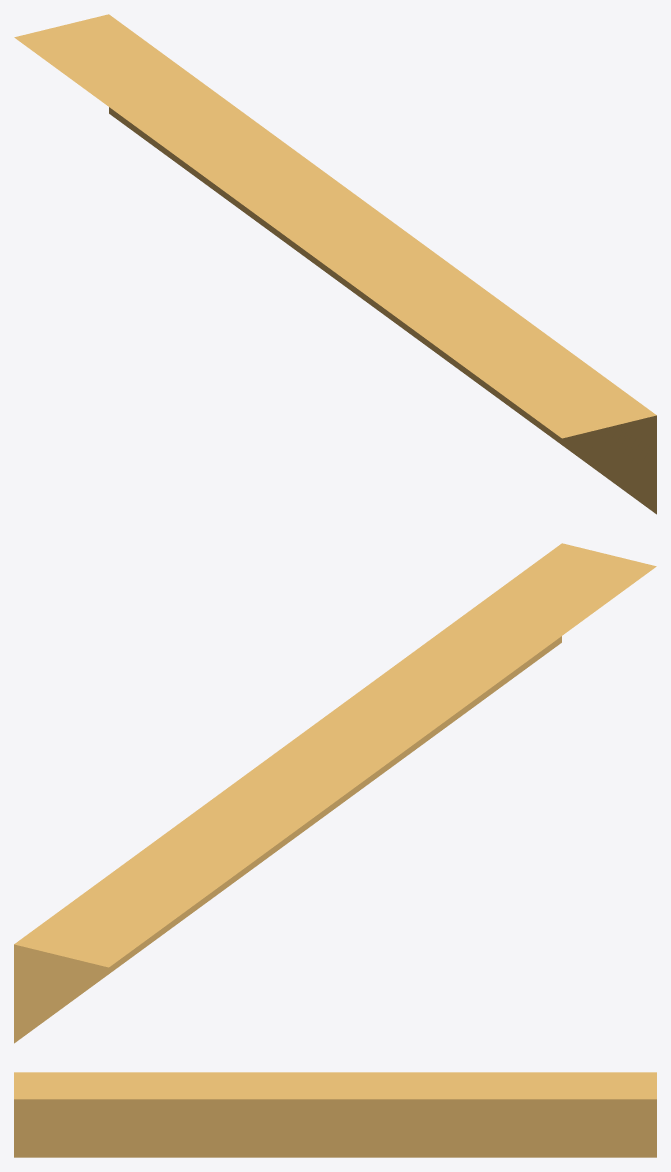
3 renders of one model, top to bottom at view 1: azimuth 30°, elevation 25°; view 2: azimuth 150°, elevation 25°; view 3: azimuth 270°, elevation 25°, orthographic. The views are drawn at different scales.
Bounding box in the file's own units: 0.1 × 0.1 × 1.
